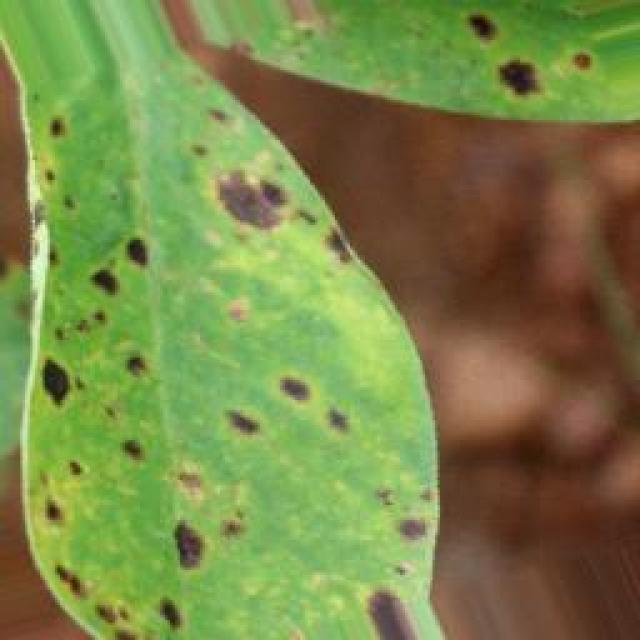Yellowish: (13, 0, 597, 640)
